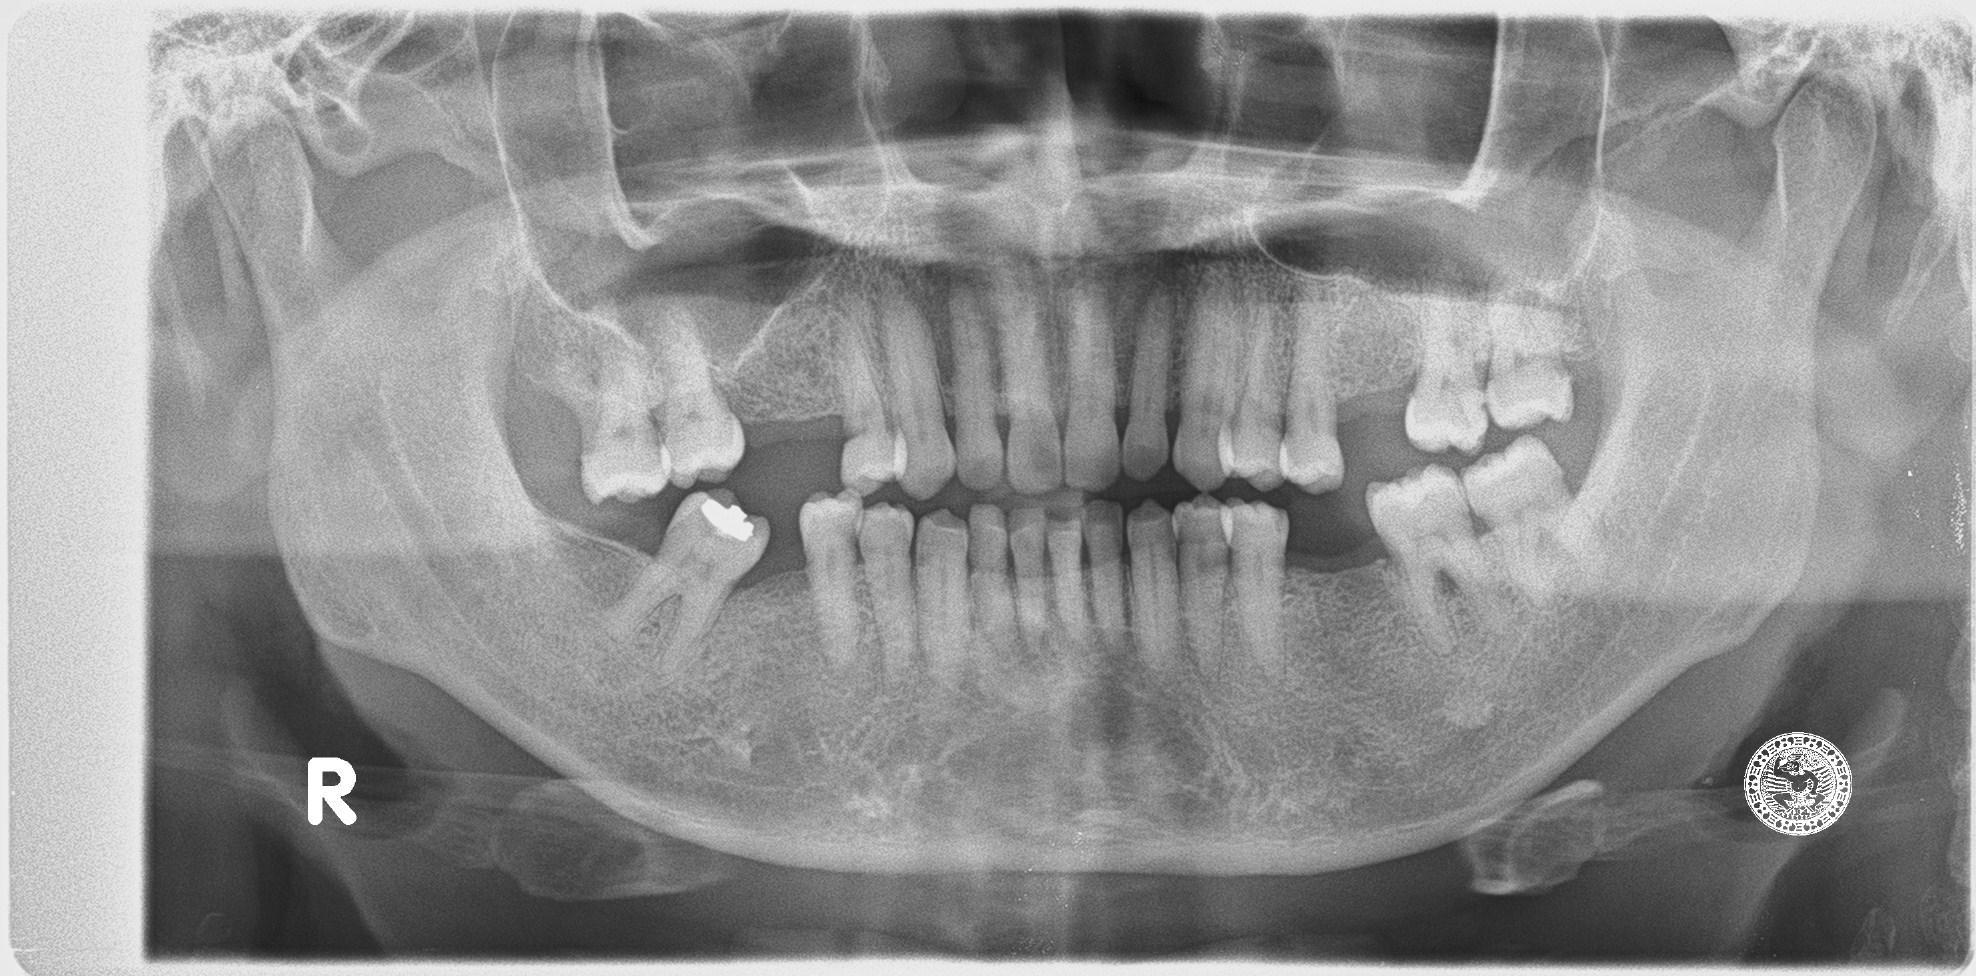Individual Tooth: (602, 488, 770, 671), (1362, 463, 1506, 654), (1461, 434, 1612, 612), (979, 270, 1064, 493), (657, 306, 746, 489), (581, 329, 672, 507), (1406, 260, 1486, 459), (832, 291, 906, 501), (1485, 265, 1574, 433), (881, 300, 955, 501), (1216, 300, 1289, 496), (1175, 274, 1240, 491), (1280, 298, 1345, 496), (1065, 279, 1120, 491), (950, 281, 1004, 489), (1221, 501, 1287, 667), (1172, 496, 1232, 670), (800, 493, 861, 663), (1120, 288, 1173, 480), (915, 509, 970, 685), (859, 503, 914, 676), (1128, 502, 1181, 671), (1083, 501, 1127, 648), (1045, 492, 1089, 639), (968, 504, 1016, 637), (1009, 507, 1047, 636)
